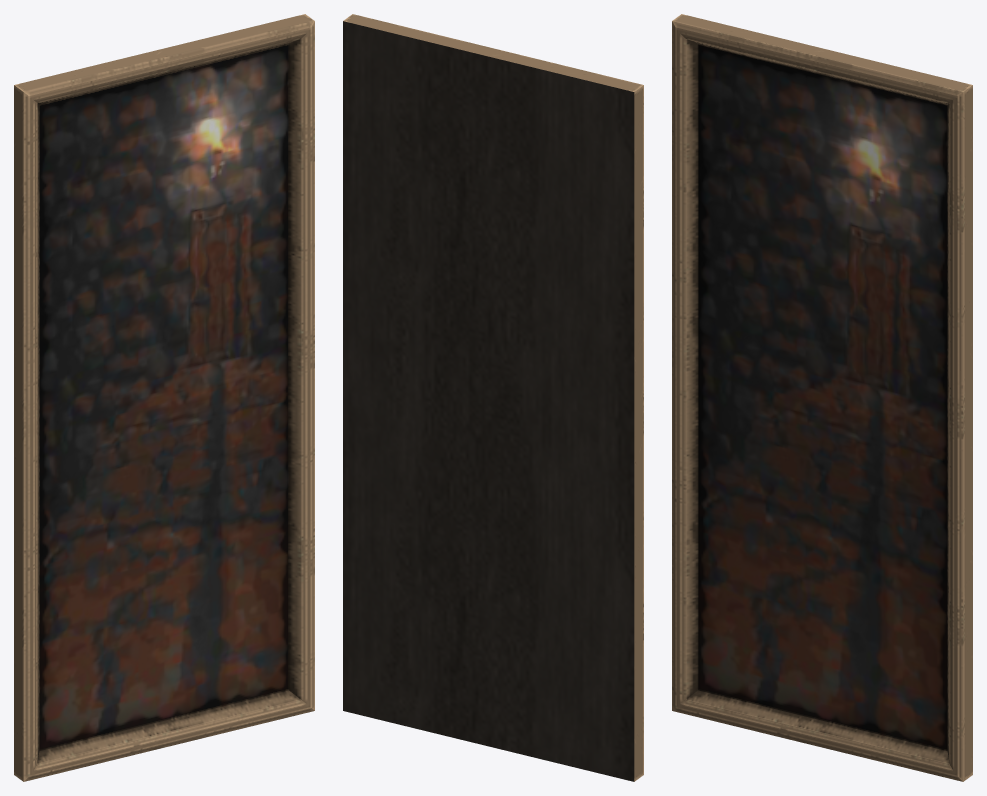
Rendered from painting_prt.fbx.
The picture shows the model from 3 angles, left to right: view 1: azimuth 30°, elevation 25°; view 2: azimuth 150°, elevation 25°; view 3: azimuth 330°, elevation 25°; orthographic projection.
Visible parts, largest first — view 1: painting_prt; view 2: painting_prt; view 3: painting_prt.
Boxes of the visible parts, x1,y1,x2,y2 form: painting_prt: (14, 14, 314, 781); painting_prt: (343, 14, 643, 781); painting_prt: (672, 14, 972, 781).
Bounding box in the file's own units: 175 × 396 × 10.94.
